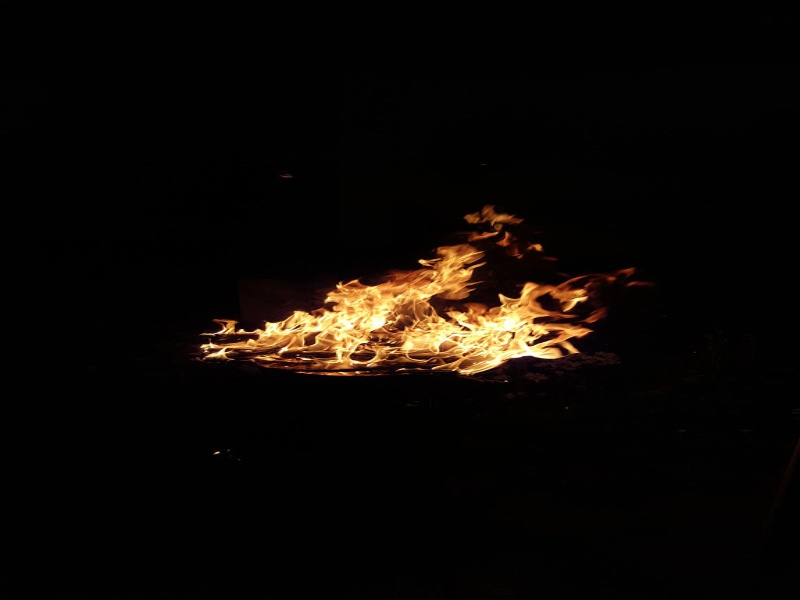fire: (199, 208, 644, 374)
